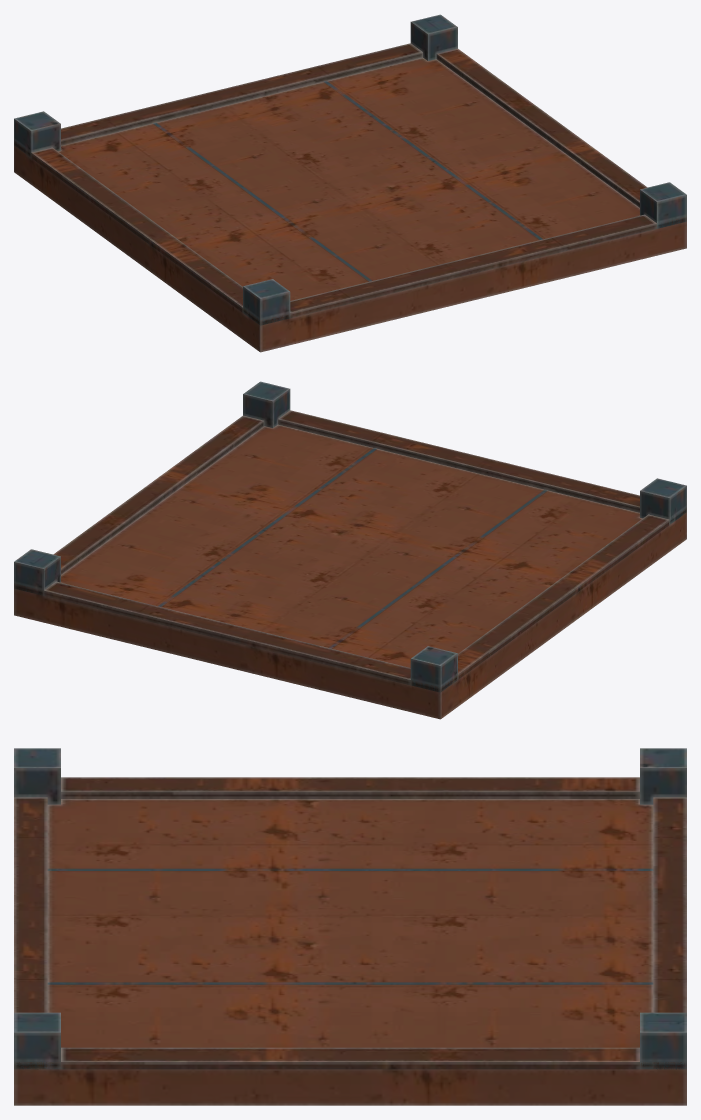
File: hull_starter.glb
3 views of the same model, one above another, from view 1: azimuth 30°, elevation 25°; view 2: azimuth 150°, elevation 25°; view 3: azimuth 270°, elevation 25° (orthographic). The views are drawn at different scales.
Parts seen in each view (by area): view 1: te_hull_starter; view 2: te_hull_starter; view 3: te_hull_starter.
Boxes of the visible parts, x1,y1,x2,y2 form: te_hull_starter: [14, 14, 686, 352]; te_hull_starter: [14, 381, 686, 719]; te_hull_starter: [14, 748, 686, 1105].
Bounding box in the file's own units: 1 × 0.12 × 1.
Materials: 1 (1 with a texture image).
